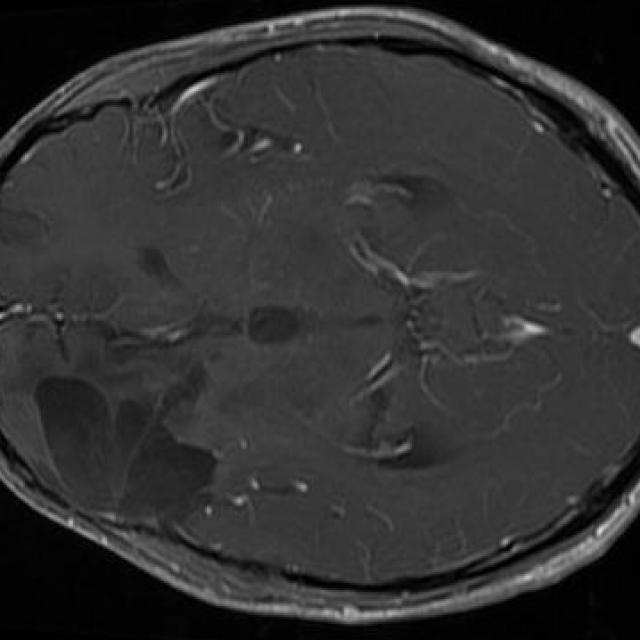glioma: (36, 364, 217, 528)
